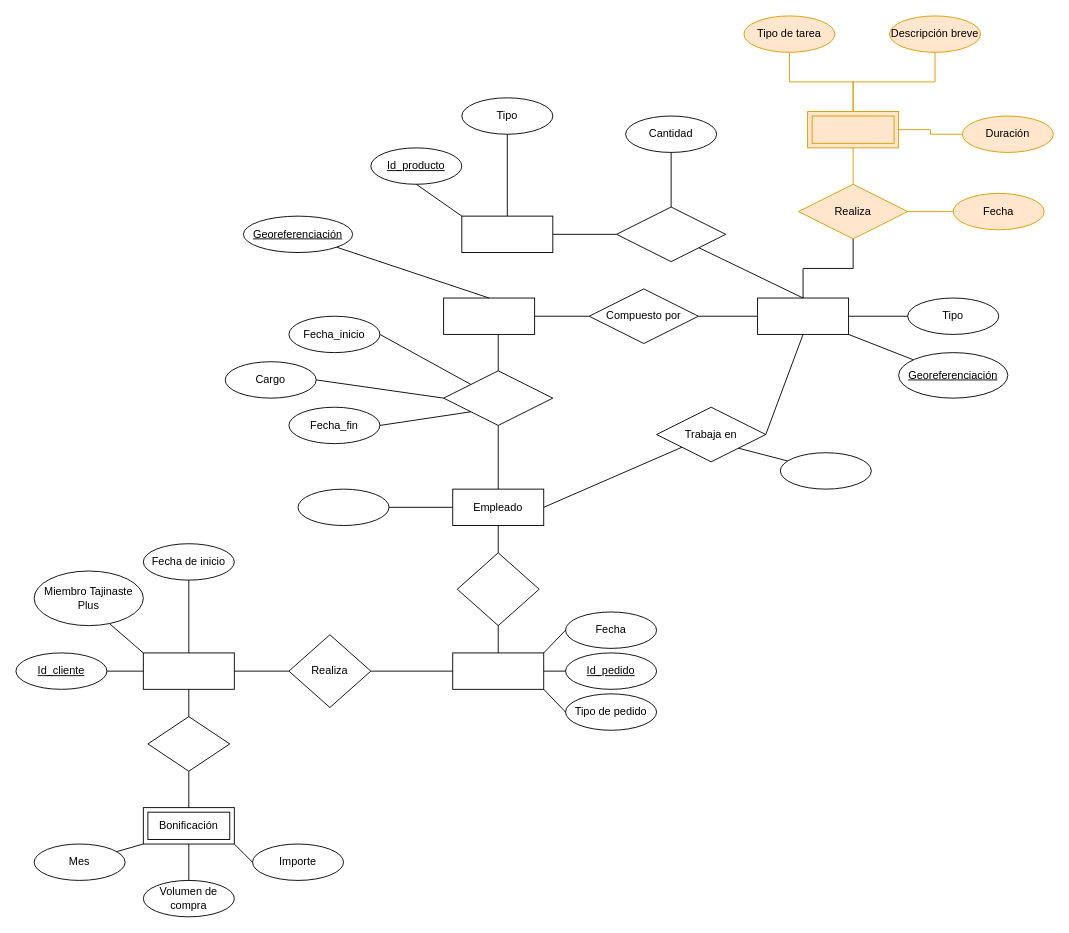
This 1069x933 diagram has some shape labels left out. Here are the shapes that lost their labels. From the top down, the box of each, then its label:
(807, 111, 899, 148): Mantenimiento
(461, 215, 553, 253): Producto
(616, 206, 726, 262): Contiene
(443, 297, 535, 334): Vivero
(757, 297, 849, 334): Zona
(443, 370, 553, 425): Destinado a ...
(779, 452, 871, 489): Tarea
(297, 488, 389, 526): Id_empleado
(456, 552, 539, 626): Gestiona
(142, 652, 234, 689): Cliente
(452, 652, 544, 689): Pedido
(147, 716, 230, 771): Recibe
